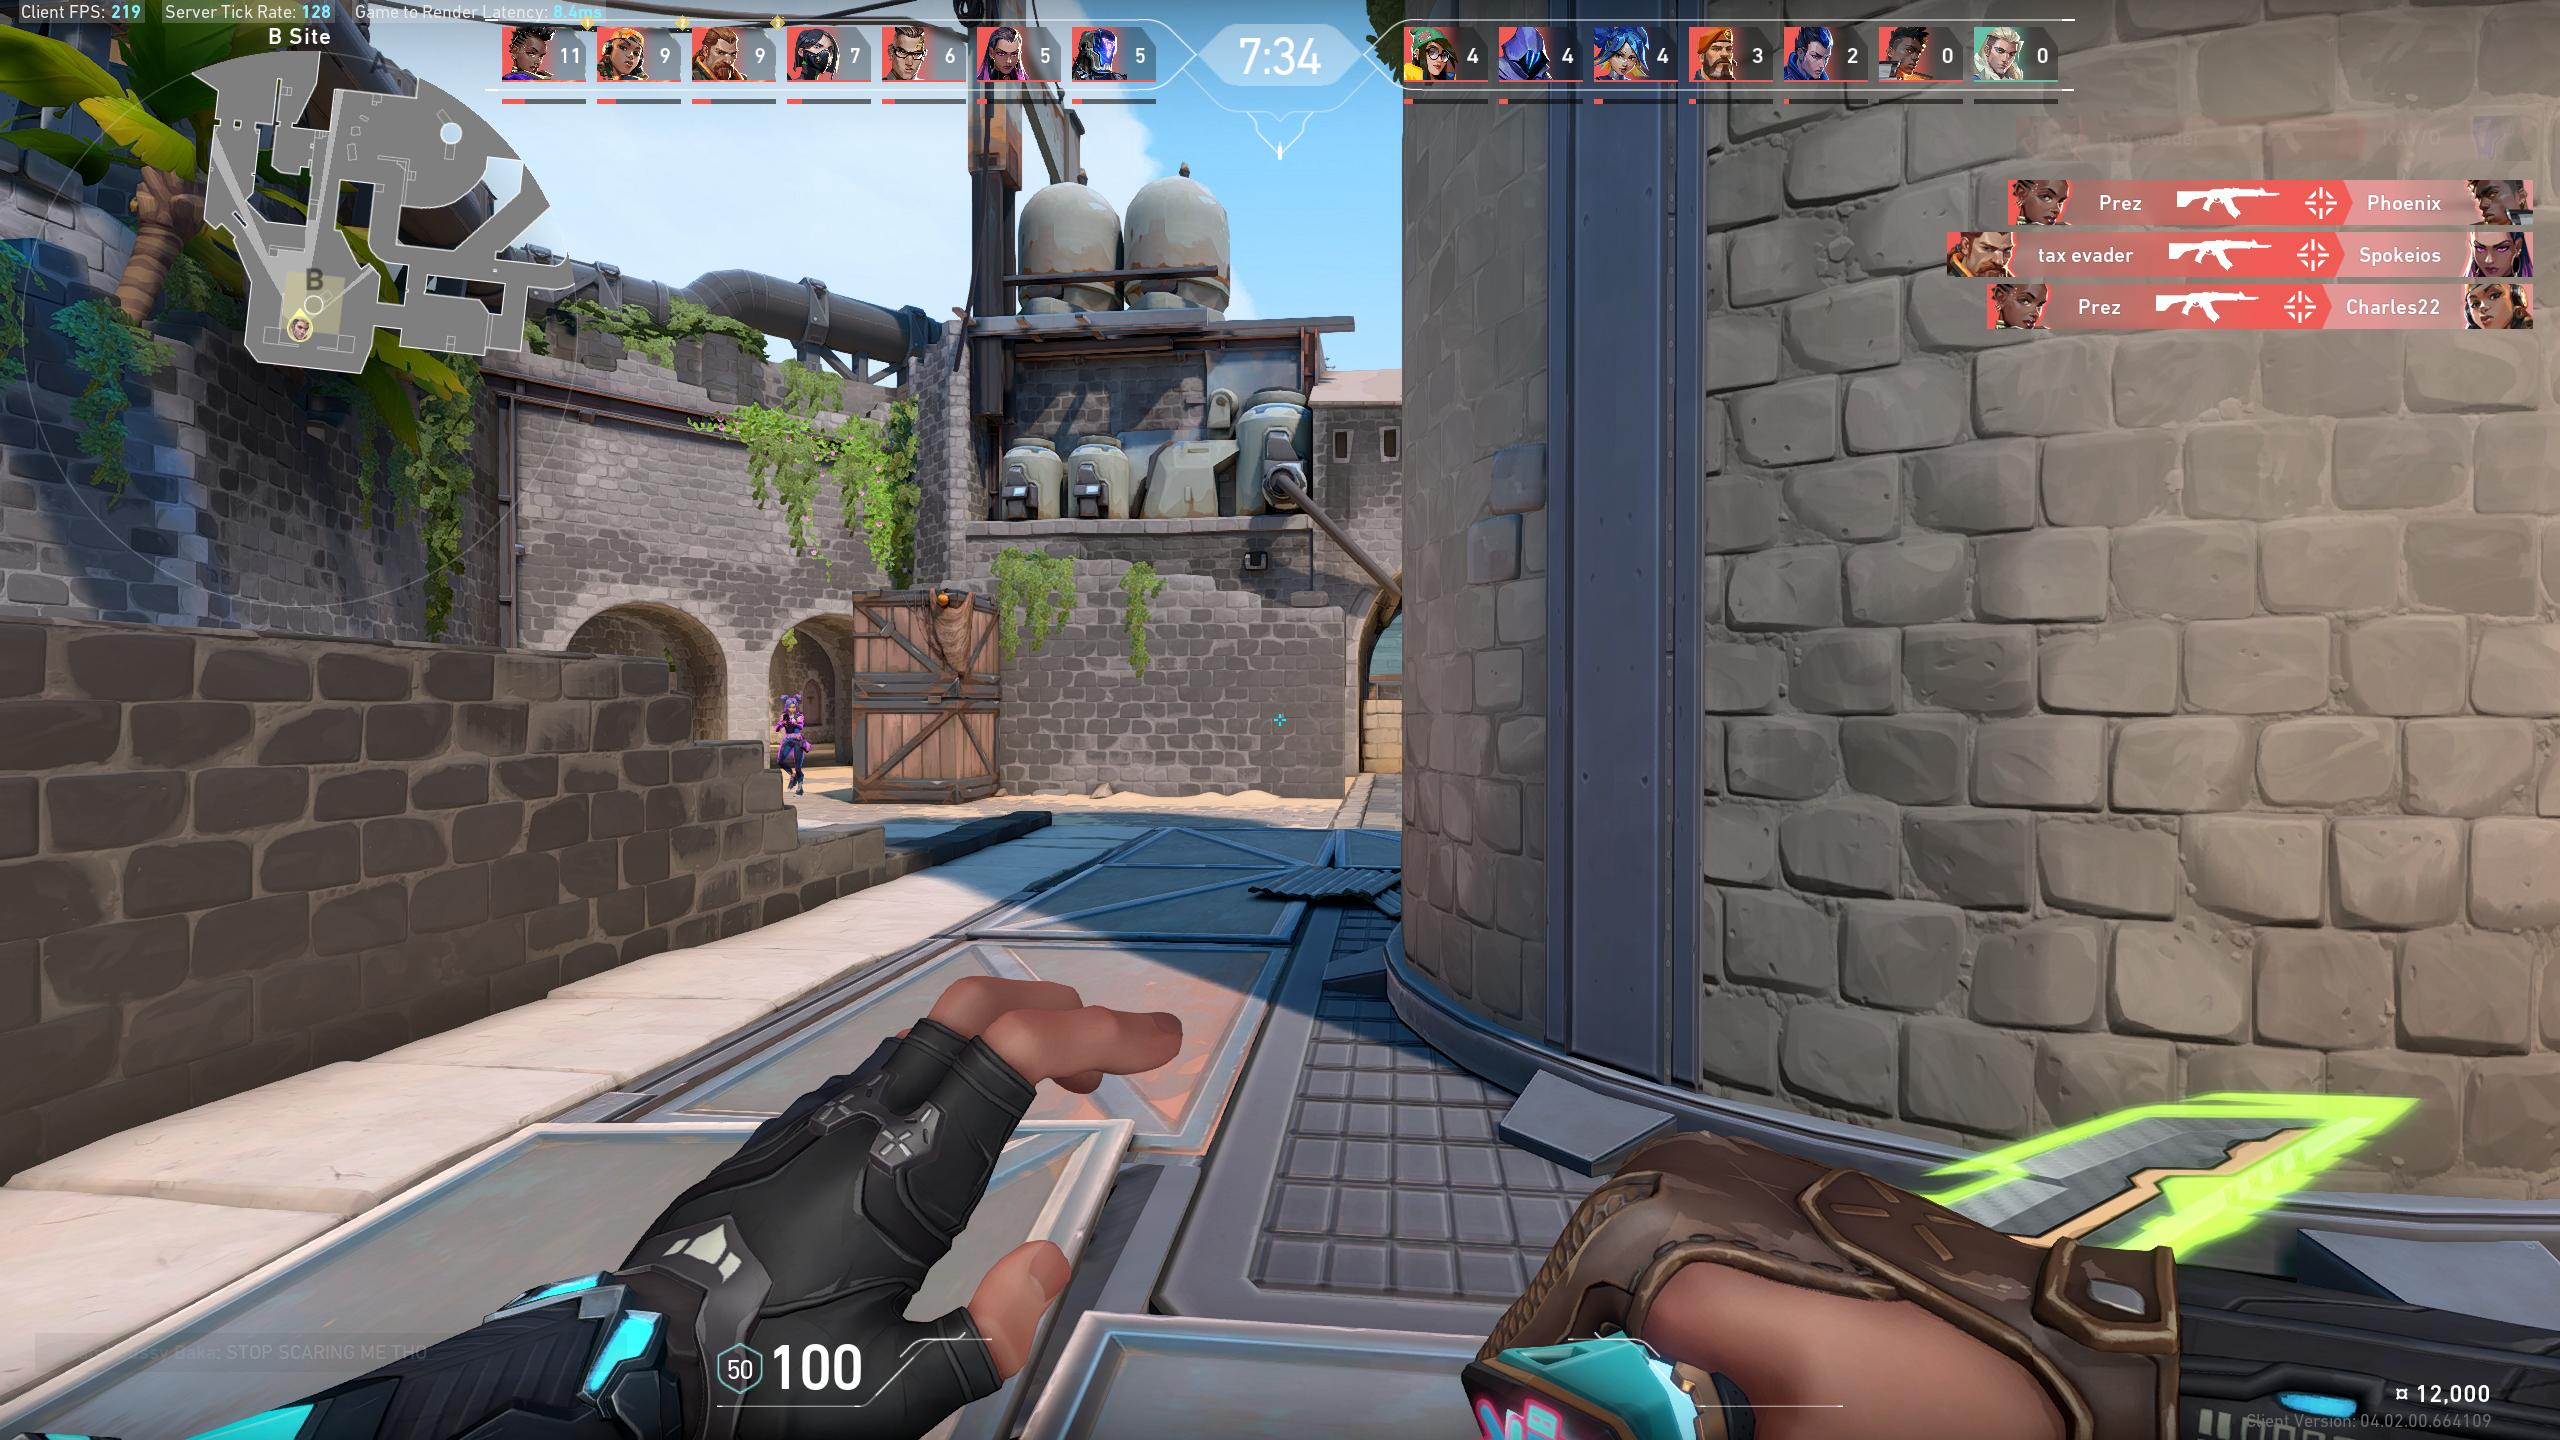enemyBody: (784, 714, 798, 738), (798, 1022, 800, 1022)
enemyHead: (788, 700, 796, 712)
